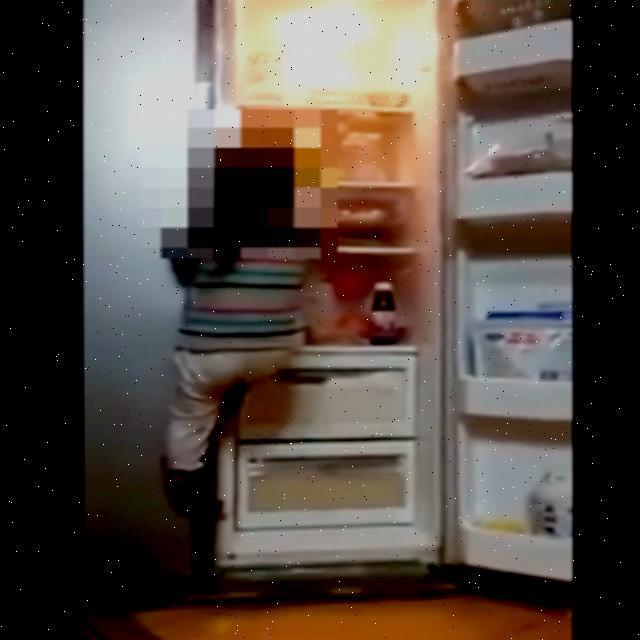child: (158, 133, 346, 512)
